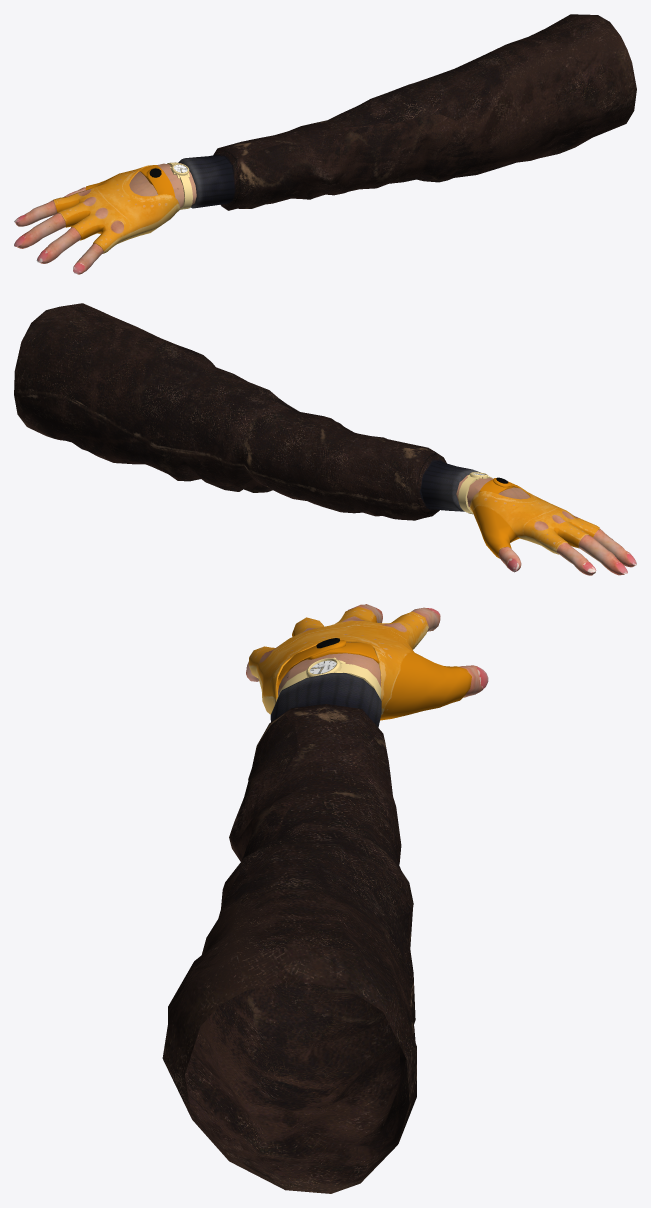
The model's file is pbl_metalness_arm_binary.fbx.
The picture shows the model from 3 angles, top to bottom: view 1: azimuth 30°, elevation 25°; view 2: azimuth 150°, elevation 25°; view 3: azimuth 270°, elevation 25°; orthographic projection. The views are drawn at different scales.
Visible parts, largest first — view 1: polySurface54; view 2: polySurface54; view 3: polySurface54.
Boxes of the visible parts, x1,y1,x2,y2 form: polySurface54: (14, 14, 636, 274); polySurface54: (14, 303, 636, 575); polySurface54: (162, 604, 488, 1193).
Bounding box in the file's own units: 9.04 × 1.9 × 2.2.
1 material, 1 textured.
